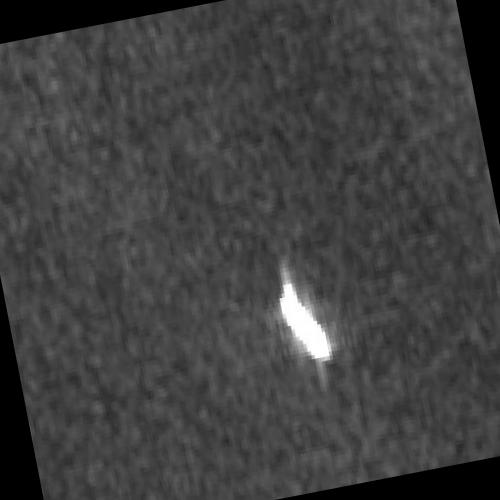ship: (279, 277, 330, 361)
